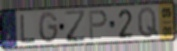2: (117, 8, 135, 40)
G: (38, 11, 59, 45)
L: (19, 14, 37, 44)
P: (88, 9, 108, 42)
Q: (137, 6, 160, 40)
Z: (63, 9, 87, 43)
